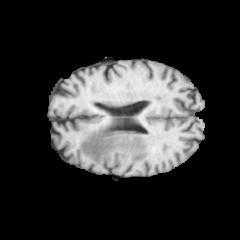glioma: (80, 127, 148, 165)
